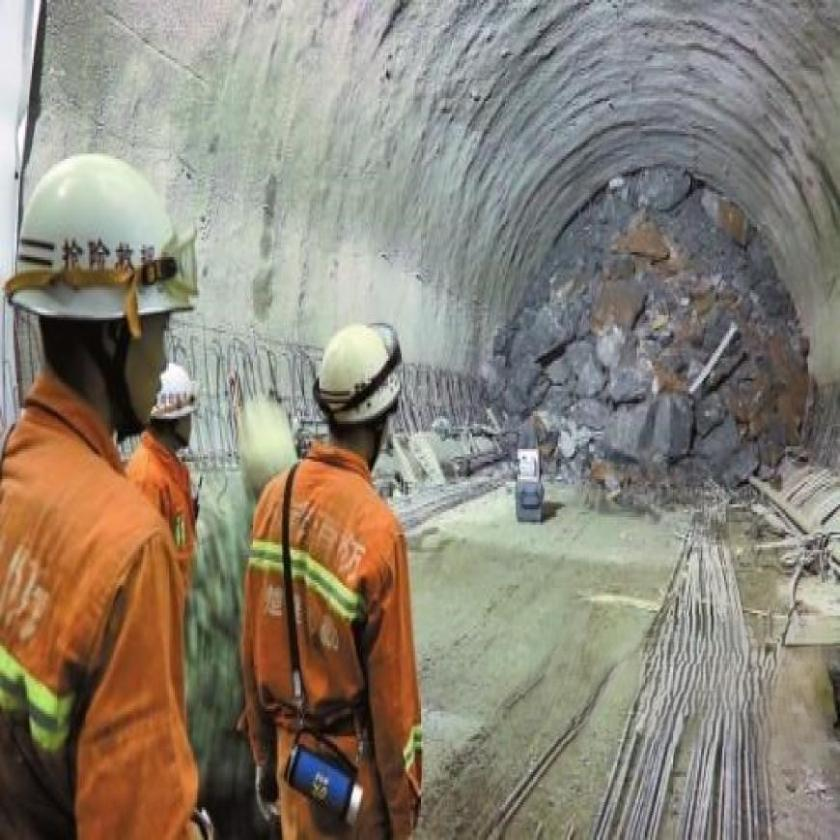Con_casco: (9, 99, 209, 420), (307, 320, 416, 478), (147, 351, 201, 464)
